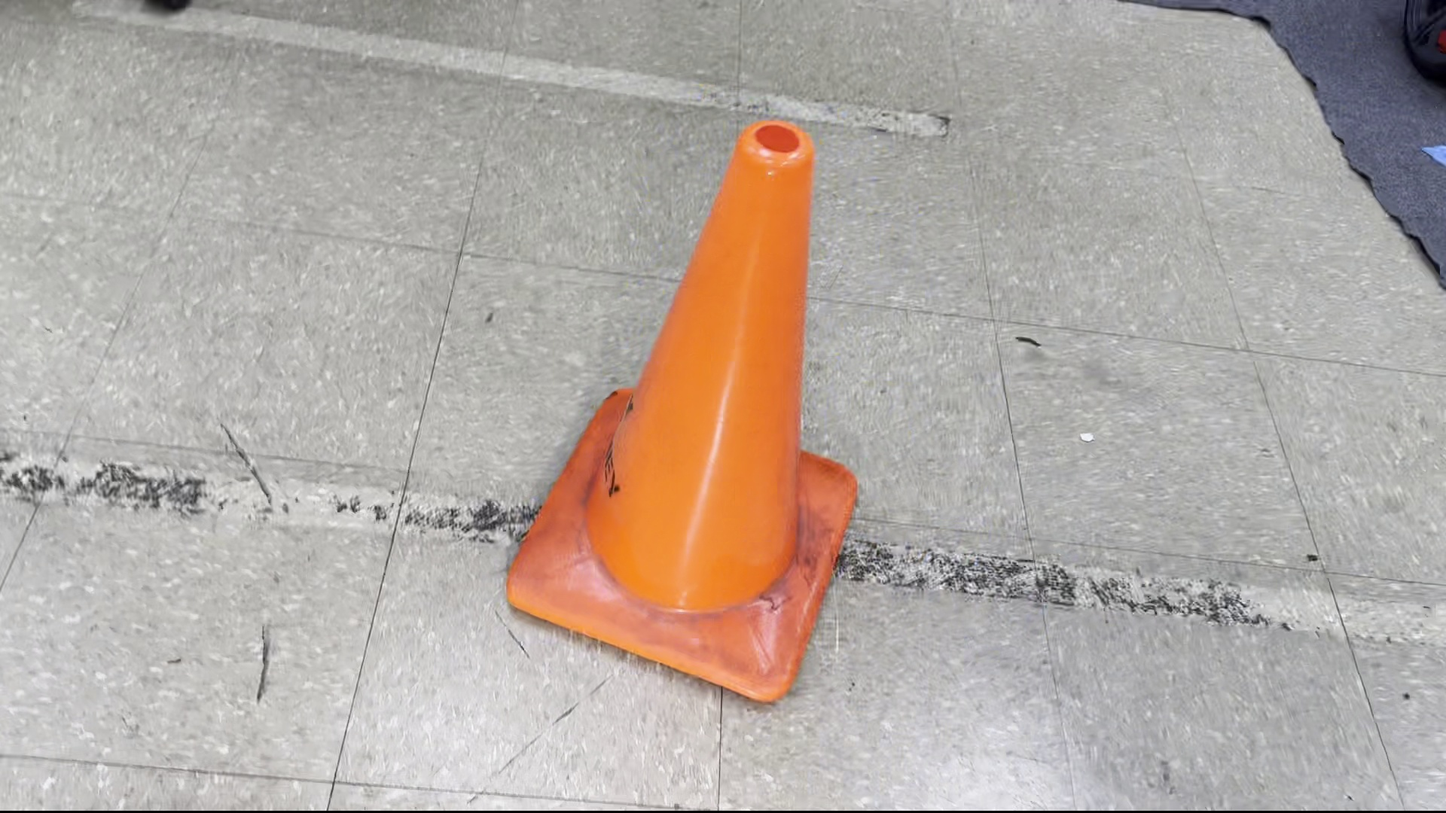traffic_cone: (505, 117, 860, 704)
